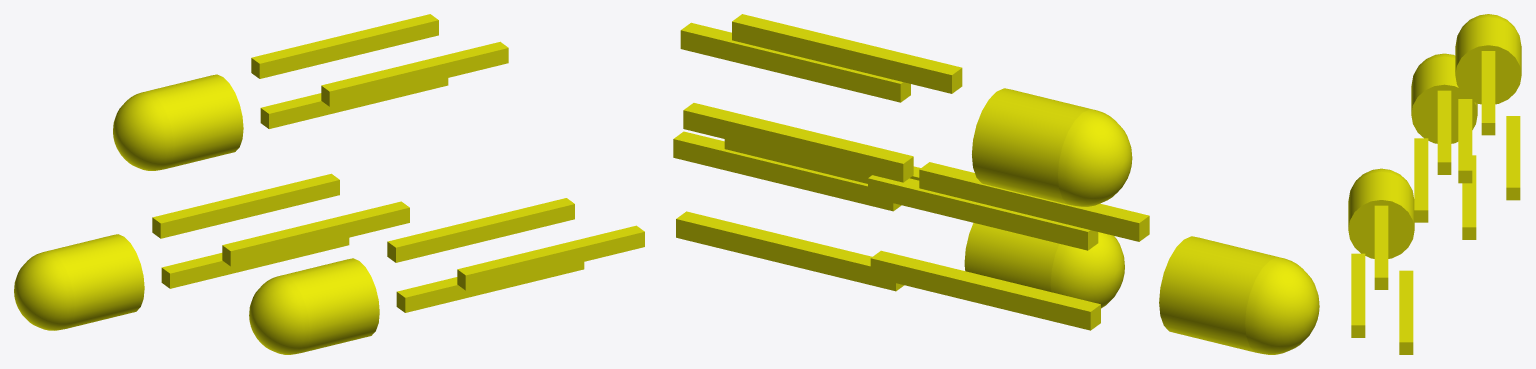
File: FasterFire.fbx
3 renders of one model, left to right at view 1: azimuth 30°, elevation 25°; view 2: azimuth 150°, elevation 25°; view 3: azimuth 270°, elevation 25°, orthographic. The views are drawn at different scales.
Parts seen in each view (by area): view 1: Bullet3, Bullet2, Bullet1, BulletTrail1_1, BulletTrail1_2, BulletTrail3_2, BulletTrail2_1, BulletTrail2_2, BulletTrail3_1, BulletTrail1_3, BulletTrail3_3, BulletTrail2_3; view 2: Bullet1, Bullet2, Bullet3, BulletTrail1_1, BulletTrail1_3, BulletTrail2_3, BulletTrail3_3, BulletTrail2_1, BulletTrail1_2, BulletTrail2_2, BulletTrail3_2, BulletTrail3_1; view 3: Bullet3, Bullet1, Bullet2, BulletTrail2_2, BulletTrail1_2, BulletTrail1_3, BulletTrail3_2, BulletTrail3_3, BulletTrail1_1, BulletTrail2_1, BulletTrail3_1, BulletTrail2_3.
Boxes of the visible parts, <box> form: Bullet3: <box>249,258,379,354</box>; Bullet2: <box>14,234,144,330</box>; Bullet1: <box>113,74,243,170</box>; BulletTrail1_1: <box>251,14,438,78</box>; BulletTrail1_2: <box>321,41,508,106</box>; BulletTrail3_2: <box>457,225,644,290</box>; BulletTrail2_1: <box>152,173,339,238</box>; BulletTrail2_2: <box>222,201,409,266</box>; BulletTrail3_1: <box>387,198,574,262</box>; BulletTrail1_3: <box>260,78,448,128</box>; BulletTrail3_3: <box>396,262,584,312</box>; BulletTrail2_3: <box>161,238,349,288</box>; Bullet1: <box>972,88,1132,206</box>; Bullet2: <box>1159,236,1319,354</box>; Bullet3: <box>964,223,1124,308</box>; BulletTrail1_1: <box>732,14,962,93</box>; BulletTrail1_3: <box>683,103,913,182</box>; BulletTrail2_3: <box>870,250,1100,330</box>; BulletTrail3_3: <box>676,211,903,291</box>; BulletTrail2_1: <box>919,162,1149,241</box>; BulletTrail1_2: <box>680,22,910,102</box>; BulletTrail2_2: <box>868,175,1098,250</box>; BulletTrail3_2: <box>673,131,901,211</box>; BulletTrail3_1: <box>724,139,920,183</box>; Bullet3: <box>1348,168,1414,258</box>; Bullet1: <box>1455,14,1521,104</box>; Bullet2: <box>1411,53,1477,143</box>; BulletTrail2_2: <box>1414,138,1428,222</box>; BulletTrail1_2: <box>1458,99,1472,183</box>; BulletTrail1_3: <box>1506,116,1520,200</box>; BulletTrail3_2: <box>1351,253,1365,337</box>; BulletTrail3_3: <box>1399,270,1413,354</box>; BulletTrail1_1: <box>1481,51,1495,135</box>; BulletTrail2_1: <box>1437,90,1451,174</box>; BulletTrail3_1: <box>1374,205,1388,289</box>; BulletTrail2_3: <box>1462,155,1476,239</box>.
Size of the model in its own units: 12.61 by 5 by 4.05.
